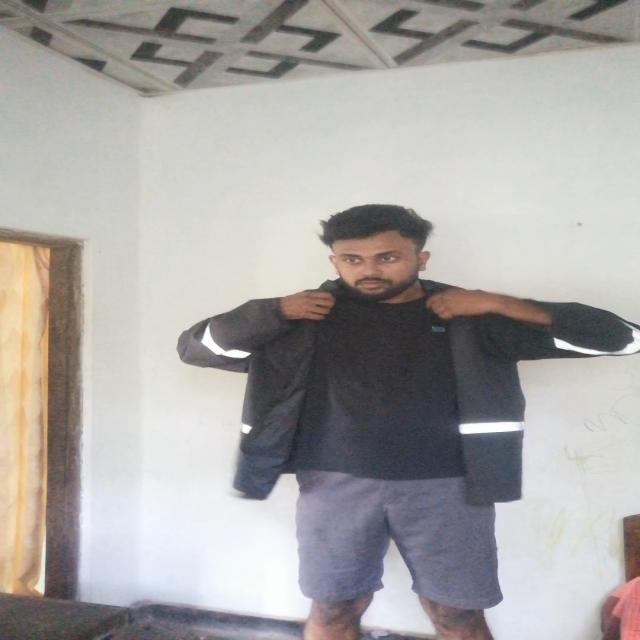Jacket_Wearer: (164, 270, 640, 506)
